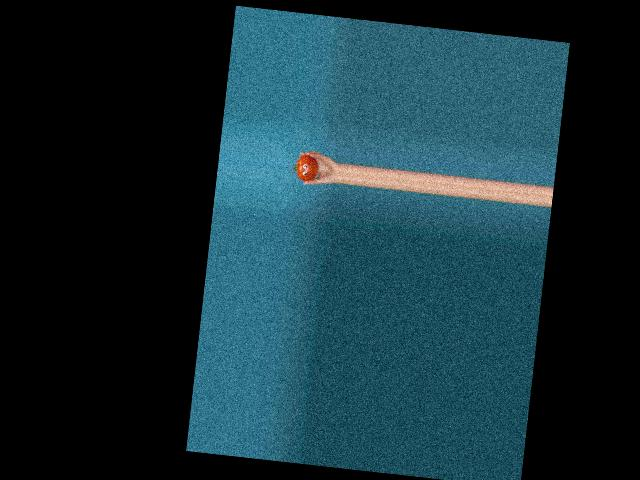tomato: (294, 153, 320, 182)
